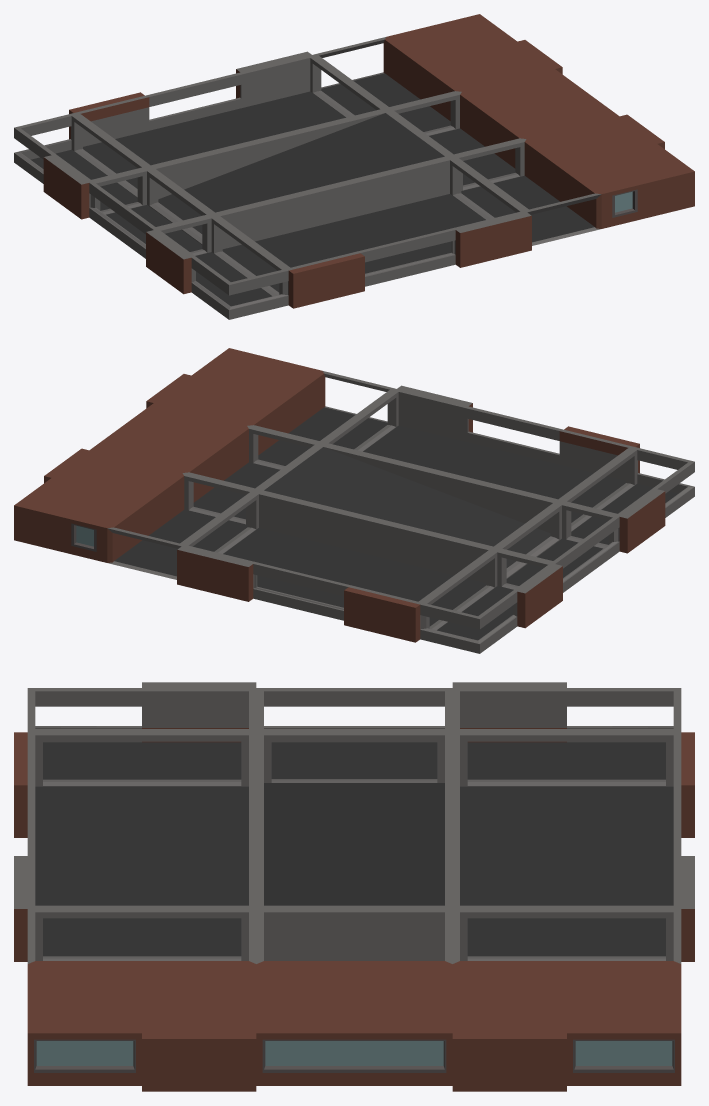
File: Garage_Base_S1.fbx
3 views of the same model, one above another, from view 1: azimuth 30°, elevation 25°; view 2: azimuth 150°, elevation 25°; view 3: azimuth 270°, elevation 25° (orthographic). The views are drawn at different scales.
Visible parts, largest first — view 1: Garage_Base; view 2: Garage_Base; view 3: Garage_Base.
Boxes of the visible parts, box(x1,y1,x2,y2) form: Garage_Base: box(14, 14, 694, 319); Garage_Base: box(14, 348, 694, 653); Garage_Base: box(14, 682, 694, 1091).
Bounding box in the file's own units: 7233 × 500 × 5836.
